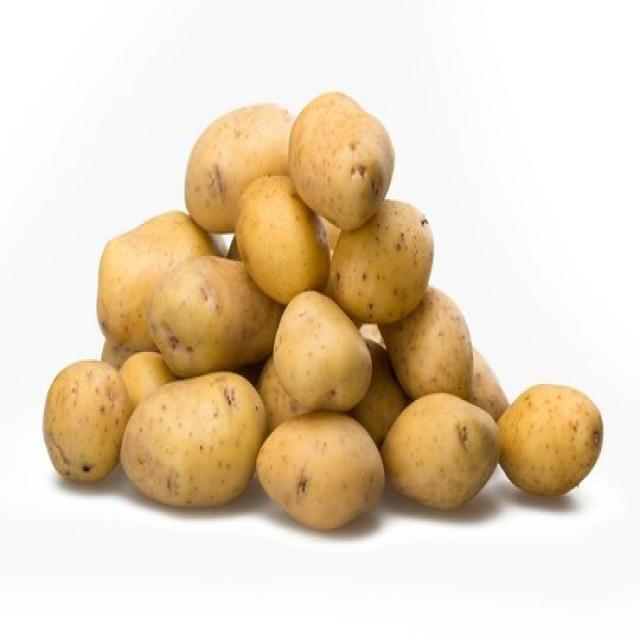Potato: (120, 369, 266, 506), (255, 409, 385, 530), (286, 89, 394, 231), (379, 391, 500, 510), (159, 248, 273, 371), (95, 209, 185, 351), (337, 201, 435, 327), (187, 95, 280, 226), (497, 382, 603, 496), (41, 358, 130, 483), (387, 286, 478, 396), (280, 290, 363, 401)
